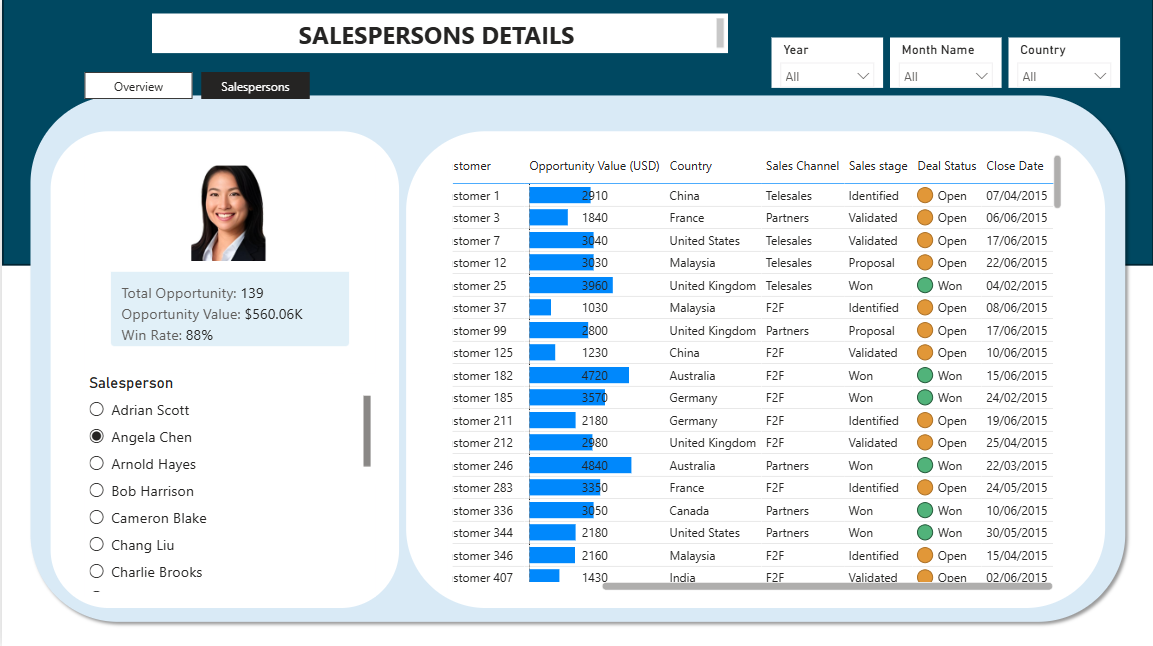

Layout of this report page (visuals, bound fields, positions):
{"tool":"powerbi","page":{"name":"Salespersons","canvas":[1280,720],"ordinal":1},"visuals":[{"type":"slicer","fields":{"Values":["Date Table.Year"]},"box":[854.3,41.4,124.3,55.7],"z":0},{"type":"slicer","fields":{"Values":["Date Table.Month Name"]},"box":[986.4,41.4,124.3,55.7],"z":1000},{"type":"slicer","fields":{"Values":["Sales Opportunities.Country"]},"box":[1118.6,41.4,124.3,55.7],"z":2000},{"type":"textbox","box":[167.1,15.7,640,44.3],"z":3000},{"type":"pageNavigator","box":[91.4,80,251.4,30],"z":4000},{"type":"cardVisual","fields":{"Data":["Key Measures.Total Opportunity"]},"box":[91.2,166.9,323.1,247.5],"z":5000},{"type":"listSlicer","fields":{"Values":["Sales Opportunities.Salesperson"]},"box":[91.2,414.4,323.1,247.5],"z":5001},{"type":"tableEx","title":"Top 5 Salesperson","fields":{"Values":["Sales Opportunities.Opportunity ID","Sales Opportunities.Reporting Date","Sales Opportunities.Customer","Sales Opportunities.Opportunity Value (USD)","Sales Opportunities.Country","Sales Opportunities.Sales Channel","Sales Opportunities.Sales stage","Sales Opportunities.Deal Status","Sales Opportunities.Close Date/Expected Close Date"]},"box":[494.3,167.1,687.1,494.3],"z":5002}]}

Visuals, with their boxes in screenshot pixels (x1, y1, x2, y2), scaled from the page's 1280x720 canvas onto the 1153x646 screenshot:
slicer - Date Table.Year: x1=770 y1=37 x2=882 y2=87
slicer - Date Table.Month Name: x1=889 y1=37 x2=1000 y2=87
slicer - Sales Opportunities.Country: x1=1008 y1=37 x2=1120 y2=87
textbox: x1=151 y1=14 x2=727 y2=54
pageNavigator: x1=82 y1=72 x2=309 y2=99
cardVisual - Key Measures.Total Opportunity: x1=82 y1=150 x2=373 y2=372
listSlicer - Sales Opportunities.Salesperson: x1=82 y1=372 x2=373 y2=594
"Top 5 Salesperson" tableEx: x1=445 y1=150 x2=1064 y2=593
